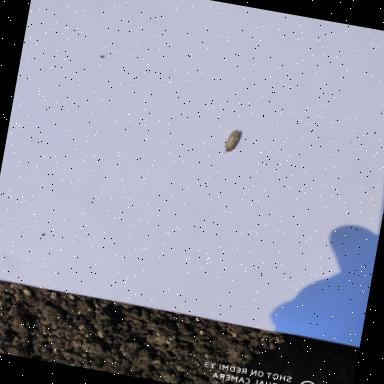pbw: (219, 128, 248, 156)
